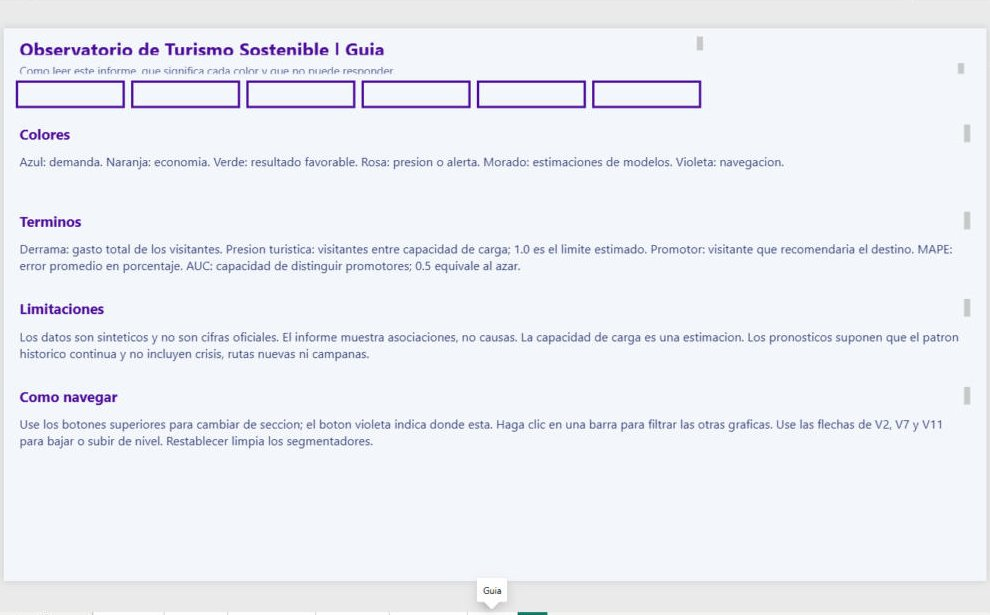

The dashboard page shown, as its layout file describes it:
{"tool":"powerbi","page":{"name":"Guia","canvas":[1280,720],"ordinal":5},"visuals":[{"type":"textbox","box":[16,6,900,34],"z":100},{"type":"textbox","box":[16,40,1240,24],"z":200},{"type":"actionButton","box":[16,68,142,36],"z":300},{"type":"actionButton","box":[166,68,142,36],"z":400},{"type":"actionButton","box":[316,68,142,36],"z":500},{"type":"actionButton","box":[466,68,142,36],"z":600},{"type":"actionButton","box":[616,68,142,36],"z":700},{"type":"actionButton","box":[766,68,142,36],"z":800},{"type":"textbox","box":[16,120,1248,34],"z":900},{"type":"textbox","box":[16,158,1248,72],"z":1000},{"type":"textbox","box":[16,234,1248,34],"z":1100},{"type":"textbox","box":[16,272,1248,72],"z":1200},{"type":"textbox","box":[16,348,1248,34],"z":1300},{"type":"textbox","box":[16,386,1248,72],"z":1400},{"type":"textbox","box":[16,462,1248,34],"z":1500},{"type":"textbox","box":[16,500,1248,72],"z":1600}]}

Visuals, with their boxes on the page's 1280x720 design canvas (x1, y1, x2, y2). These are canvas units, not pixel positions in the 990x615 screenshot, which may show the page scaled, cropped or inside an application window:
textbox: {"x1": 16, "y1": 6, "x2": 916, "y2": 40}
textbox: {"x1": 16, "y1": 40, "x2": 1256, "y2": 64}
actionButton: {"x1": 16, "y1": 68, "x2": 158, "y2": 104}
actionButton: {"x1": 166, "y1": 68, "x2": 308, "y2": 104}
actionButton: {"x1": 316, "y1": 68, "x2": 458, "y2": 104}
actionButton: {"x1": 466, "y1": 68, "x2": 608, "y2": 104}
actionButton: {"x1": 616, "y1": 68, "x2": 758, "y2": 104}
actionButton: {"x1": 766, "y1": 68, "x2": 908, "y2": 104}
textbox: {"x1": 16, "y1": 120, "x2": 1264, "y2": 154}
textbox: {"x1": 16, "y1": 158, "x2": 1264, "y2": 230}
textbox: {"x1": 16, "y1": 234, "x2": 1264, "y2": 268}
textbox: {"x1": 16, "y1": 272, "x2": 1264, "y2": 344}
textbox: {"x1": 16, "y1": 348, "x2": 1264, "y2": 382}
textbox: {"x1": 16, "y1": 386, "x2": 1264, "y2": 458}
textbox: {"x1": 16, "y1": 462, "x2": 1264, "y2": 496}
textbox: {"x1": 16, "y1": 500, "x2": 1264, "y2": 572}
